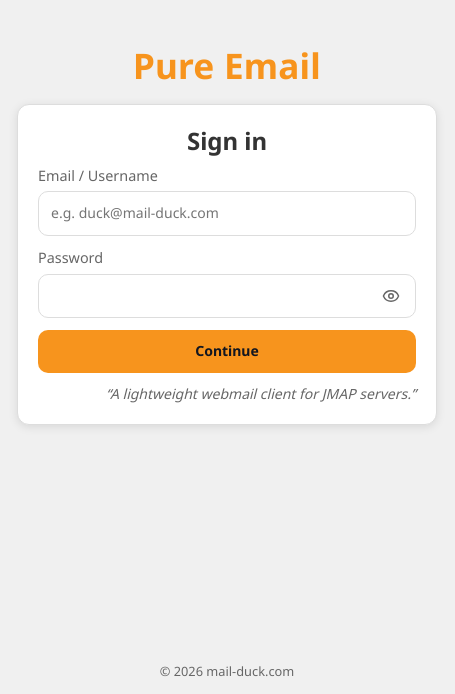
Scenario: LoginPage › shows safe, actionable error message: invalid_credentials
The width and height of the screenshot is (455, 694).
Type "duck@mail-duck.com" into the field labelled "Email / Username".
click(227, 214); type("duck@mail-duck.com")  # box [38,191,416,236]
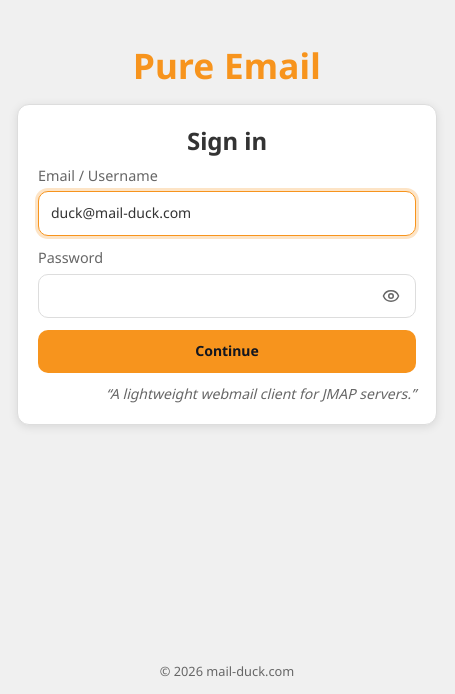
Type "pw" into the password field labelled "Password".
click(227, 296); type("pw")  # box [38,274,416,318]
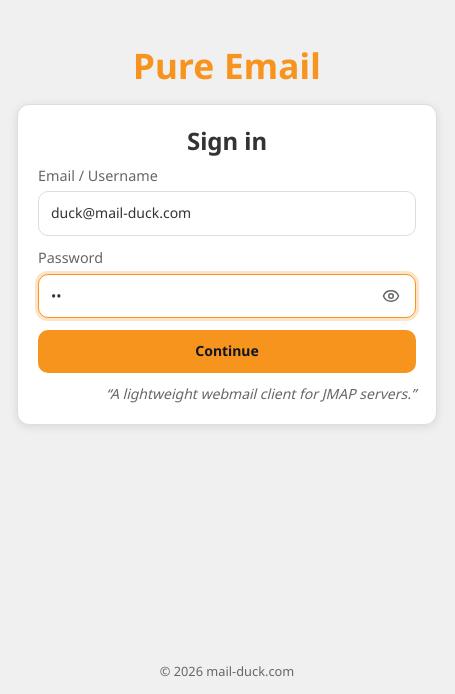
Click the button "Continue".
click(227, 352)  # box [38,330,416,373]
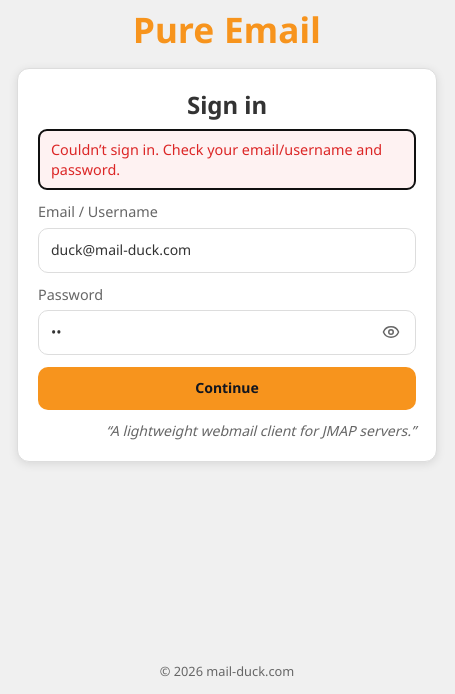
Expected: the message "Couldn’t sign in. Check your email/username and password." is shown, [38,129,416,190]
Expected: the message shows "email/username and password", [51,140,382,179]
